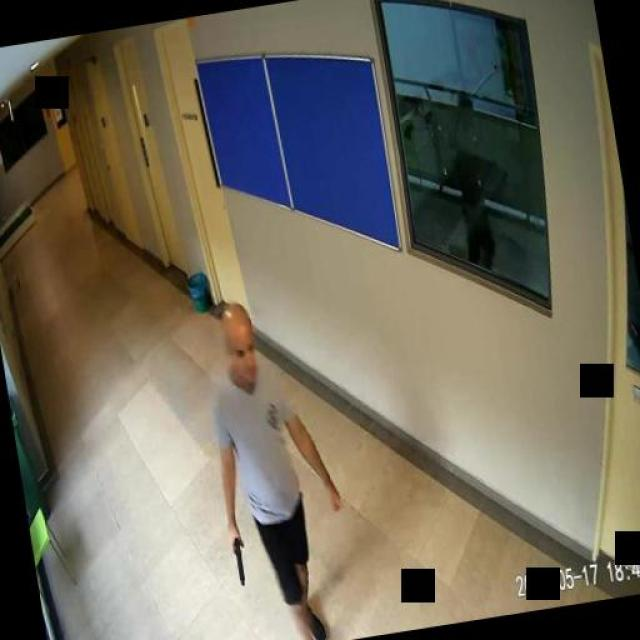gun: (226, 526, 246, 585)
